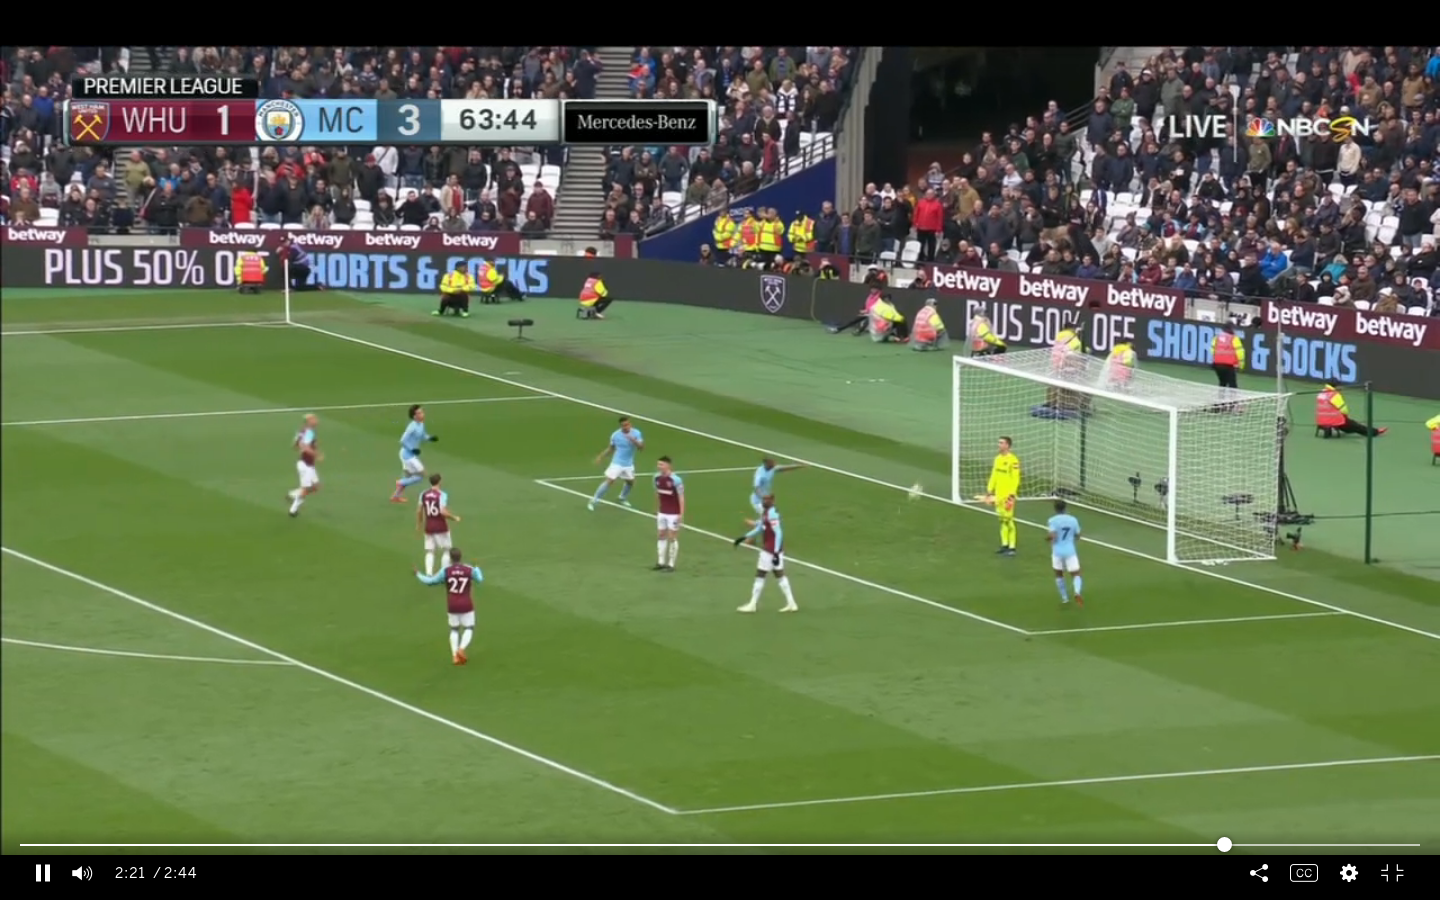soccer player: (413, 545, 487, 674), (730, 492, 804, 616), (587, 419, 650, 512), (979, 436, 1024, 556), (648, 452, 690, 577), (415, 472, 461, 585), (392, 396, 435, 516), (284, 405, 327, 522), (1044, 499, 1085, 611), (745, 456, 796, 523)
soccerball: (904, 480, 927, 506)
